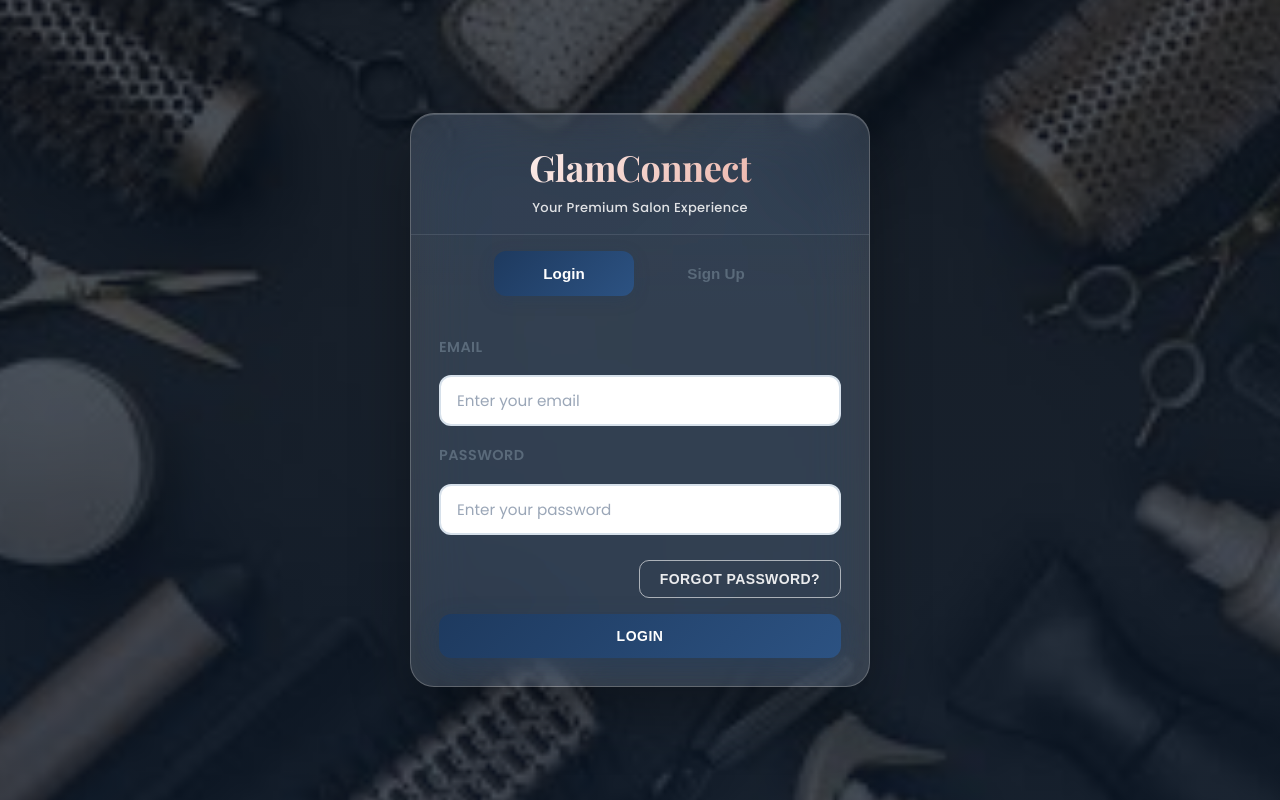
Test: Auth screen › Signup form › shows "Name is required" on empty submit
The width and height of the screenshot is (1280, 800).
Click the button "Sign Up" at (716, 274), box 646,251 -> 786,296
(page scrolled)
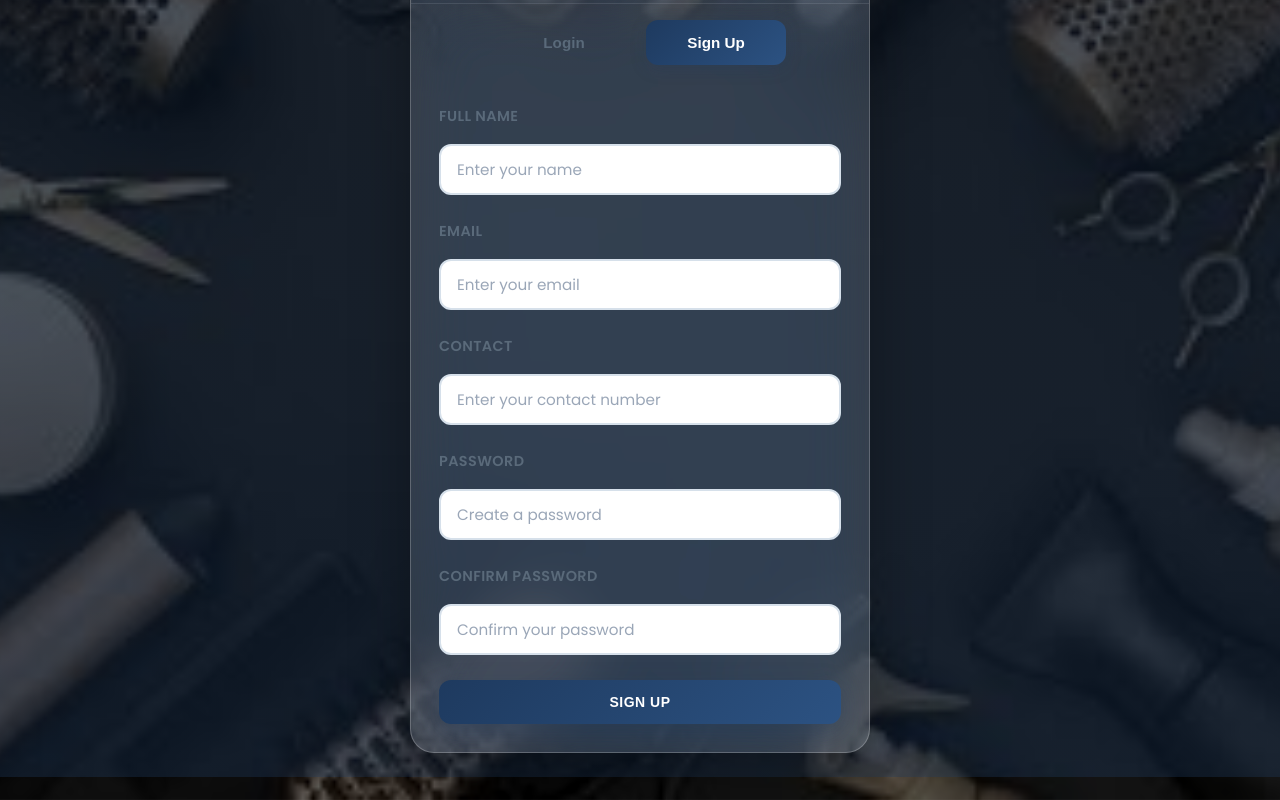
Submit the form, box 411,81 -> 869,752
(page scrolled)
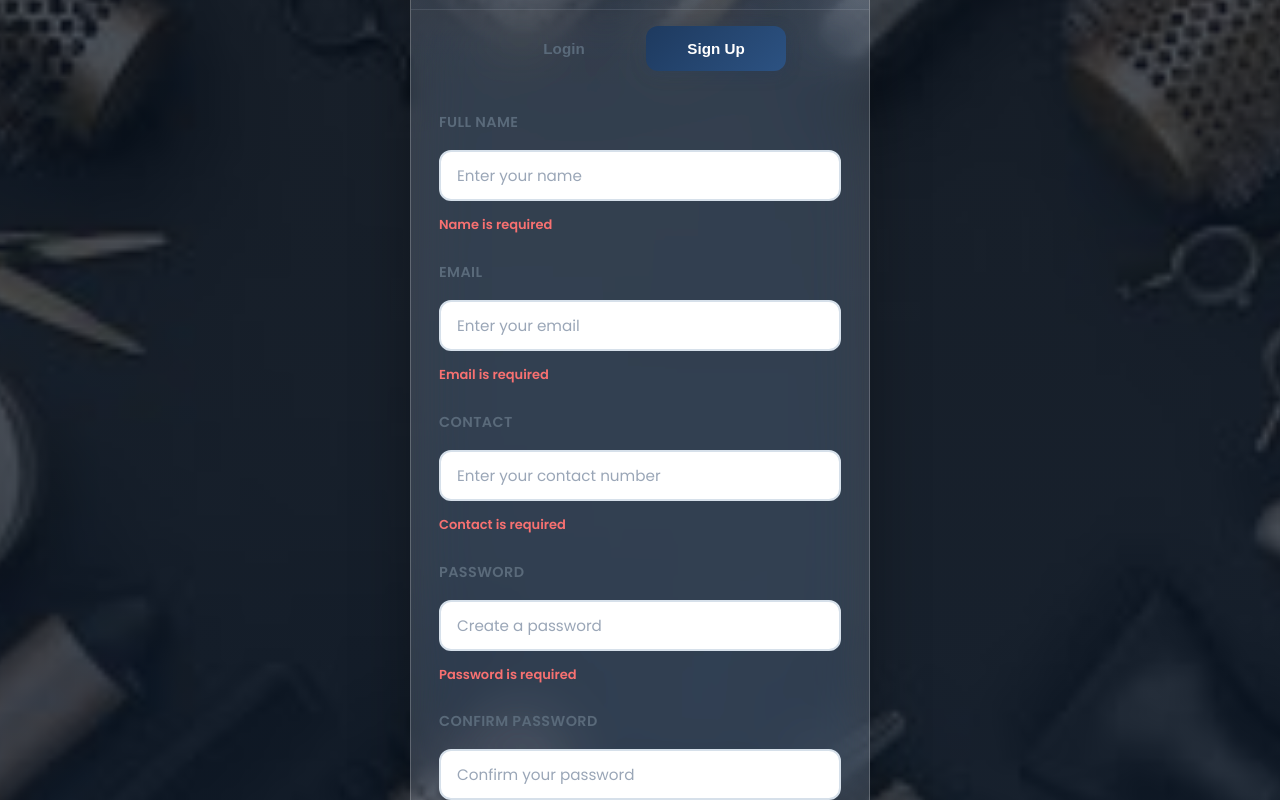
Now the text "Name is required" is shown, box 439,215 -> 552,234
